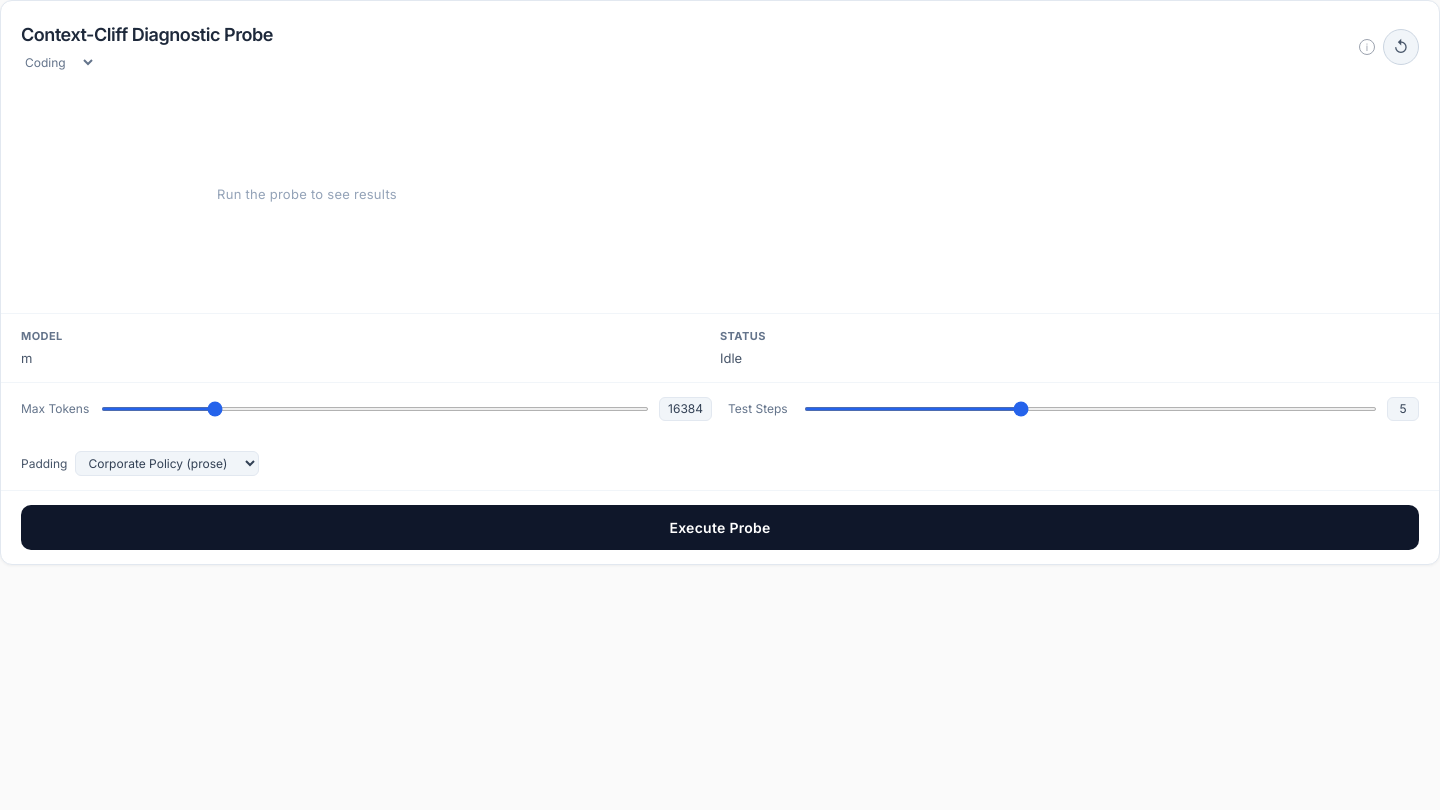
Test: ContextCliffPanel › shows 'Not available' for a rung the backend reported no token count for
The width and height of the screenshot is (1440, 810).
Click the button with test id "cliff-run" at (720, 528), box [21,505,1419,550]
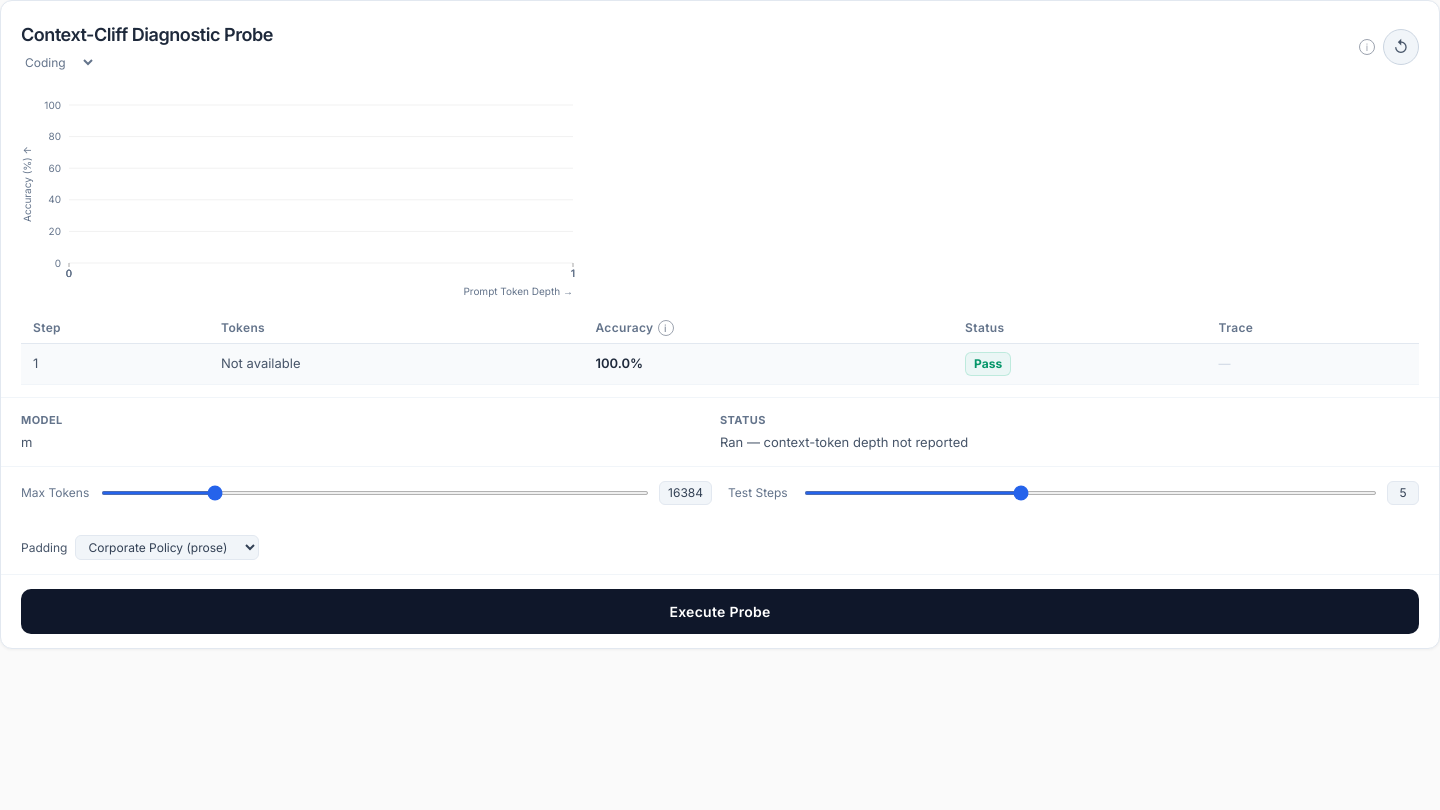
Check: the element with test id "cliff-panel" shows "Not available", box [221,355,300,371]
